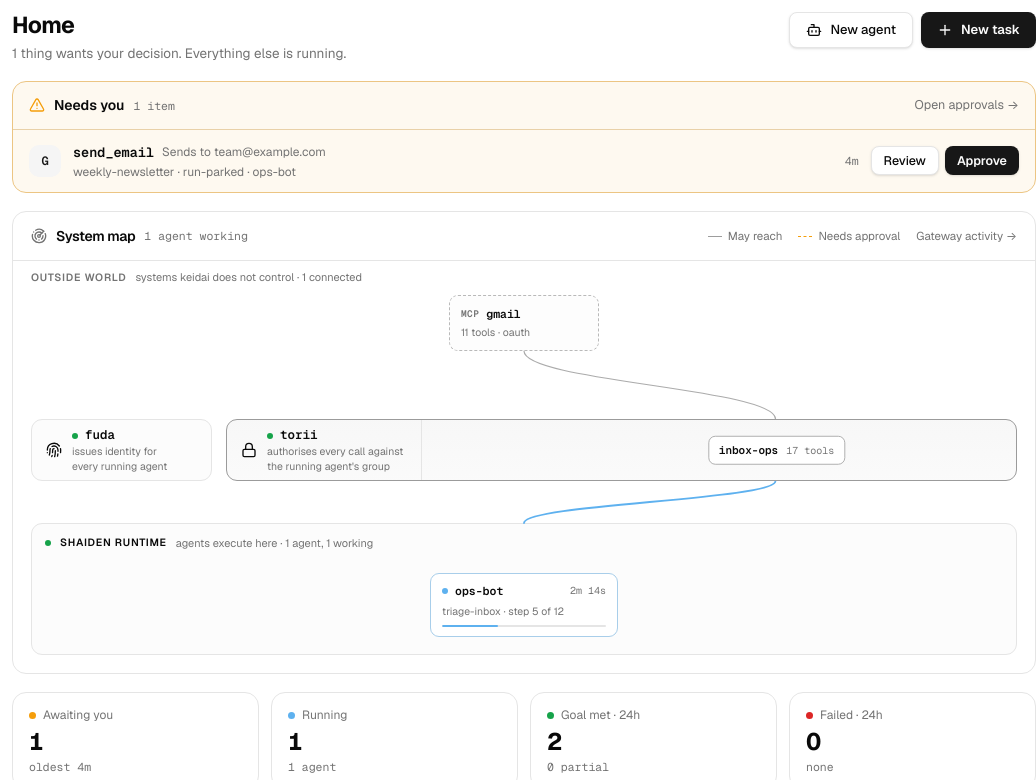
Test: HomeView › approves a needs-you row without a confirm step
The image size is (1036, 780).
Click the button "Approve" at {"x": 982, "y": 161}, box [945,146,1019,176]
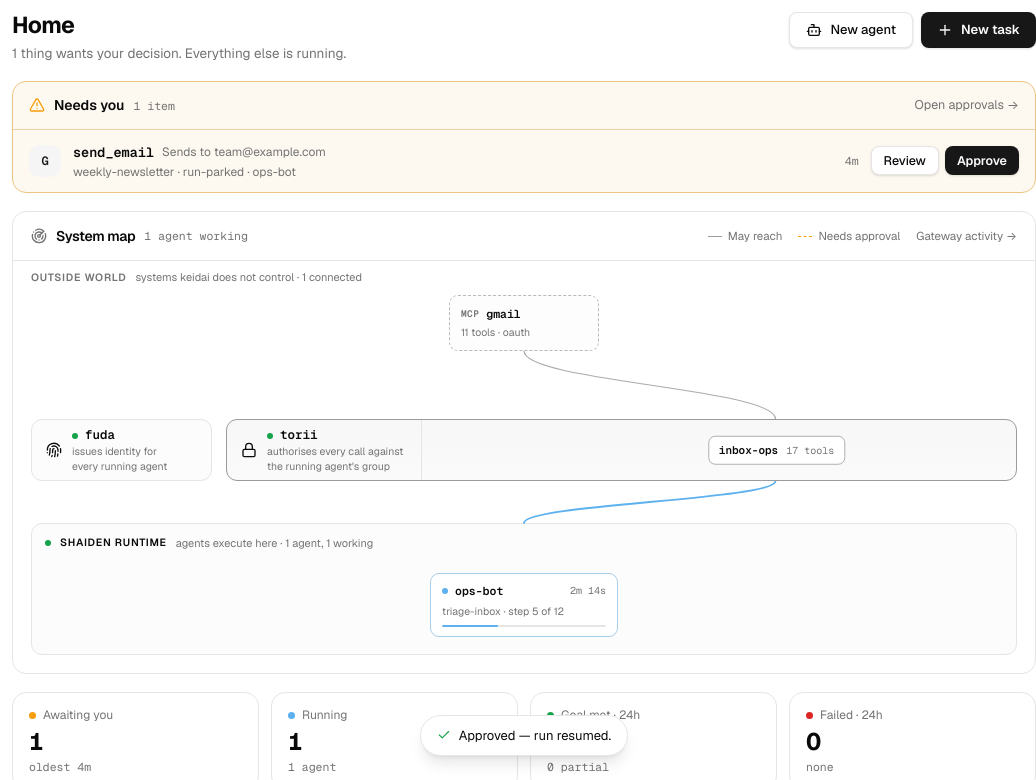
Result: the text "Approved — run resumed." is shown at [420,714,628,756]
